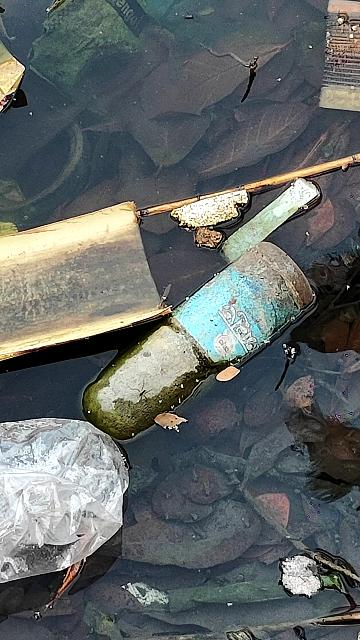bottle: (72, 230, 331, 436)
